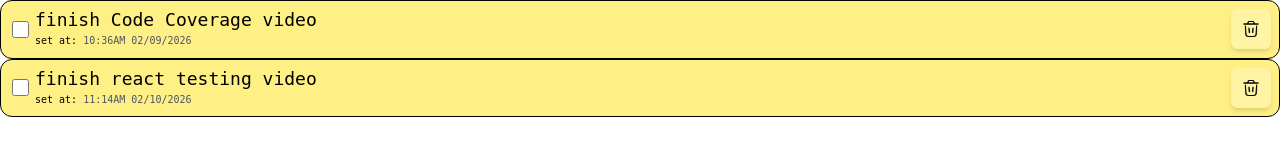
Test: test suite: TaskContainer › renders task completed date if task completed
Expected: the text "10:38AM 09/02/2026" is not shown
Click the checkbox next to "finish Code Coverage video" at (20, 29), box [12,17,29,42]
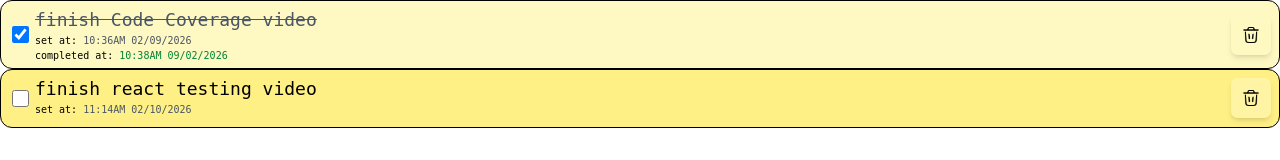
Now the text "completed at: 10:38AM 09/02/2026" is shown, box [35,50,228,61]
